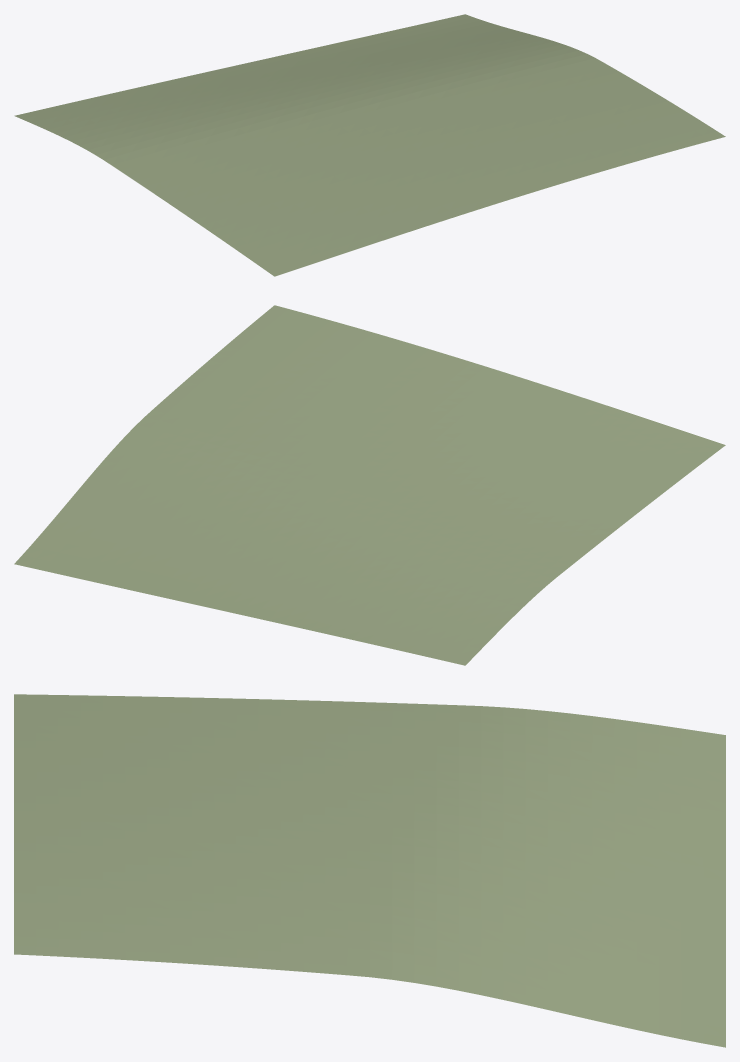
File: valley-1-9.glb
3 renders of one model, top to bottom at view 1: azimuth 30°, elevation 25°; view 2: azimuth 150°, elevation 25°; view 3: azimuth 270°, elevation 25°, orthographic. The views are drawn at different scales.
Parts seen in each view (by area): view 1: valley-1-9; view 2: valley-1-9; view 3: valley-1-9.
Part boxes in pixels (x1=…): valley-1-9: x1=14, y1=14, x2=725, y2=276; valley-1-9: x1=14, y1=305, x2=725, y2=665; valley-1-9: x1=14, y1=694, x2=725, y2=1047.
Bounding box in the file's own units: 256 × 36.97 × 256.
